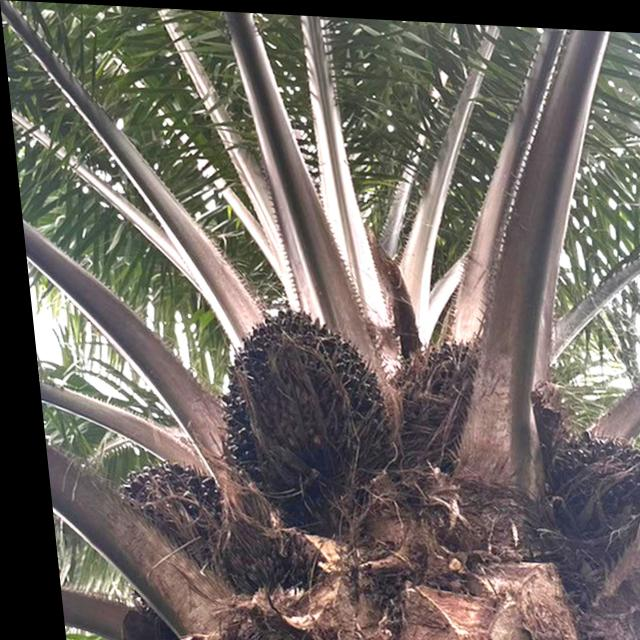unripe: (199, 295, 398, 521), (95, 452, 230, 564), (536, 423, 640, 563)
